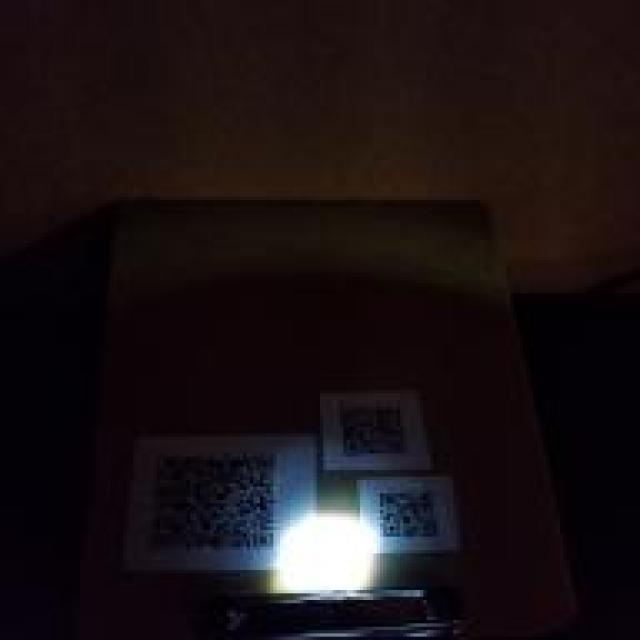QR_CODE: (130, 450, 287, 567), (333, 402, 422, 466), (373, 485, 460, 550)
